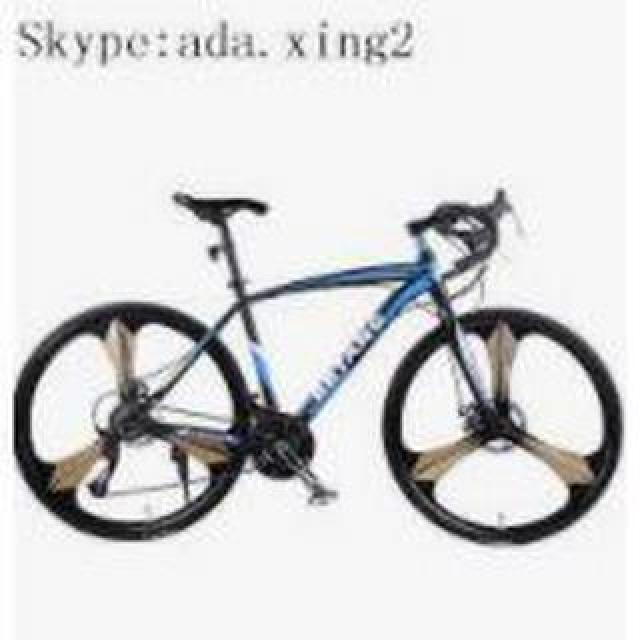Person: (9, 174, 621, 572)
